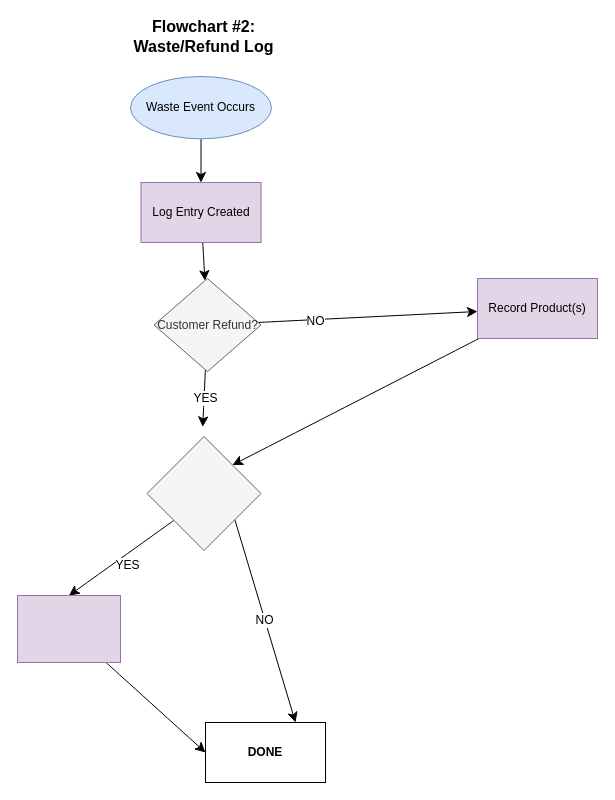
The diagram is 615 pixels wide and 800 high, and some of its shapes have lost their labels. The shapes that lost their labels are listed below. From the top down, each one's centre as x and y in pixels, then its label:
At [203,493]: "Does Product have >10 Waste Entries?".
At [68,628]: "Flag product for review".
